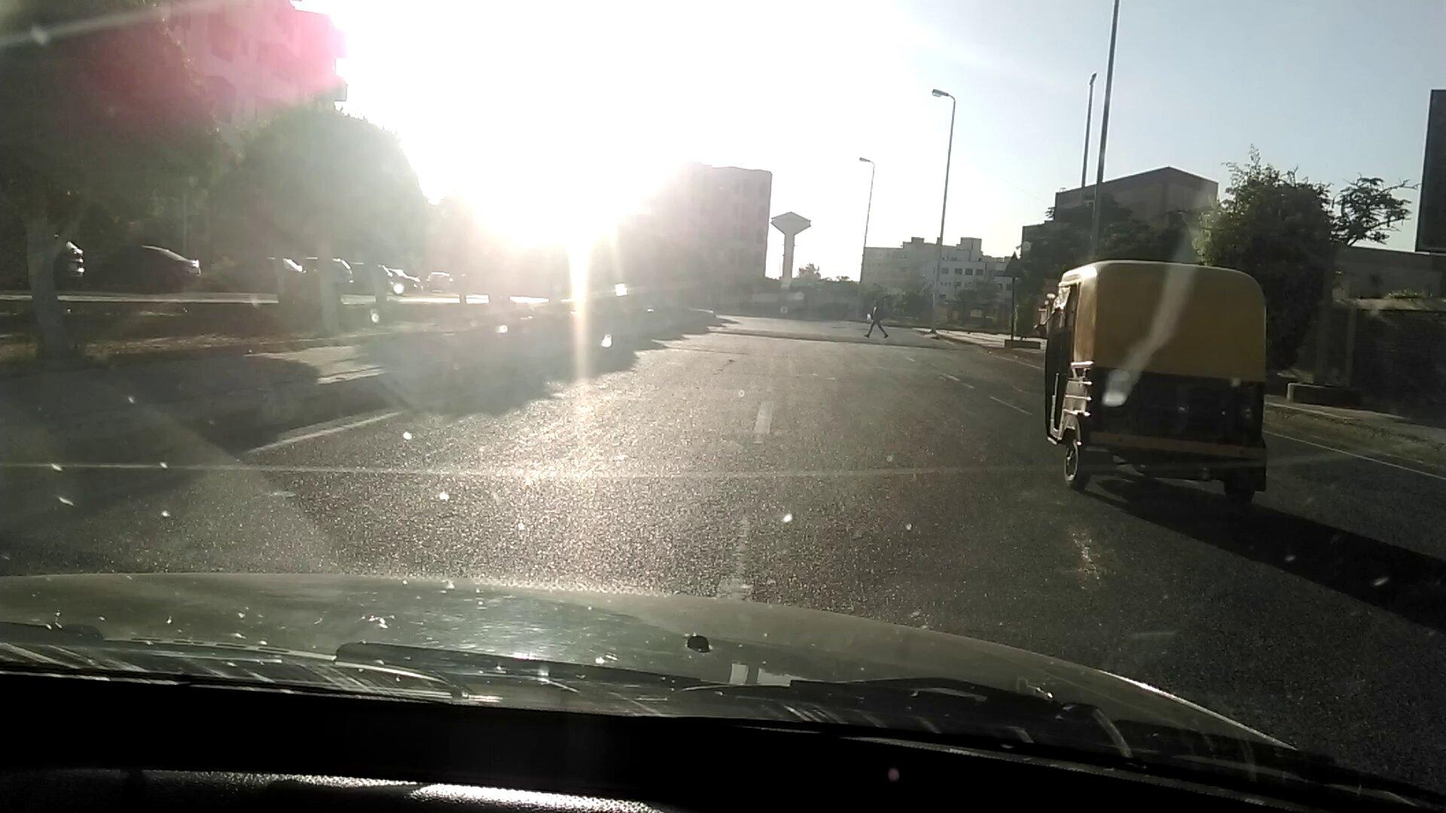Bump: (685, 319, 979, 353)
